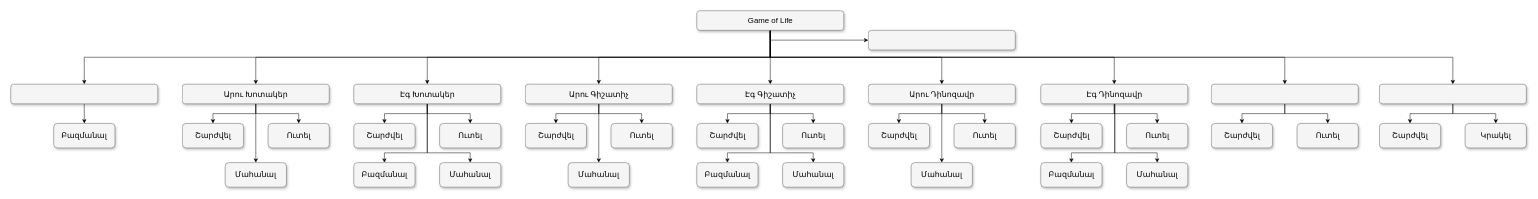
The diagram is 1538 pixels wide and 199 high, and some of its shapes have lost their labels. Each missing label, with the centre of its shape:
Աննորմալ: the point at 1285,94
Խոտ: the point at 84,94
Որսորդ: the point at 1453,94
Պայթյուն: the point at 942,40
